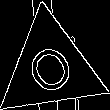O_SE: (20, 34, 81, 101)
